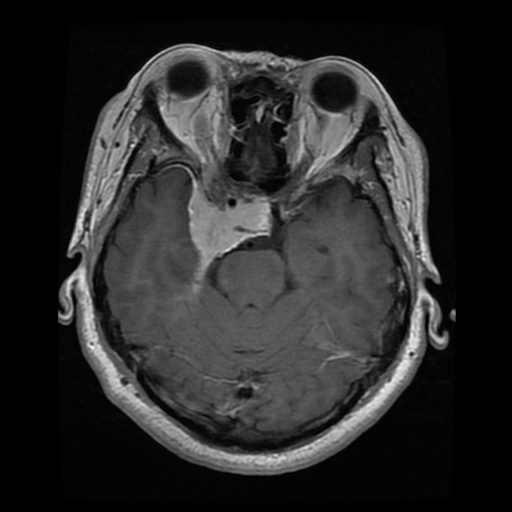meningioma: (187, 183, 272, 289)
